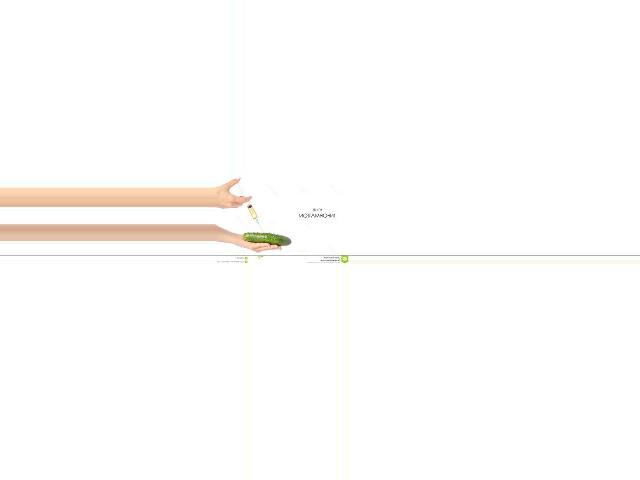cucumber: (242, 233, 290, 246)
